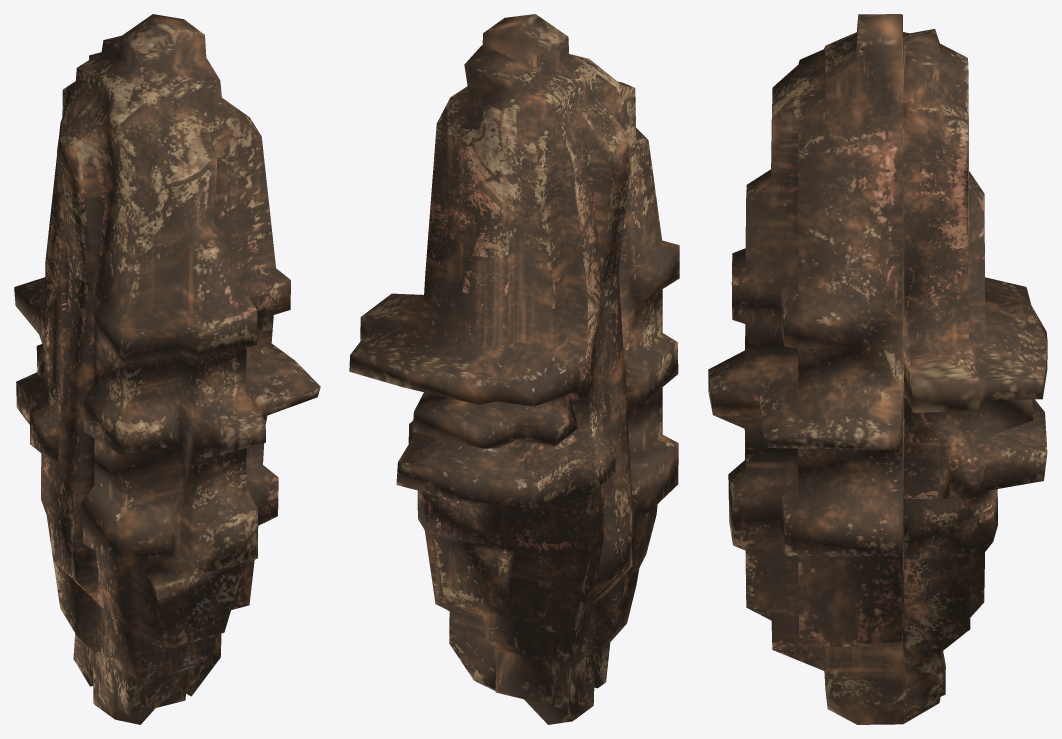
File: Rock3.fbx
3 renders of one model, left to right at view 1: azimuth 30°, elevation 25°; view 2: azimuth 150°, elevation 25°; view 3: azimuth 270°, elevation 25°, orthographic. The views are drawn at different scales.
Visible parts, largest first — view 1: stone5_low_uv:Mesh; view 2: stone5_low_uv:Mesh; view 3: stone5_low_uv:Mesh.
Part boxes in pixels (x1,y1,x2,y2): stone5_low_uv:Mesh: (14,14,320,724); stone5_low_uv:Mesh: (349,14,679,724); stone5_low_uv:Mesh: (708,14,1047,724).
Bounding box in the file's own units: 165 × 482 × 205.
